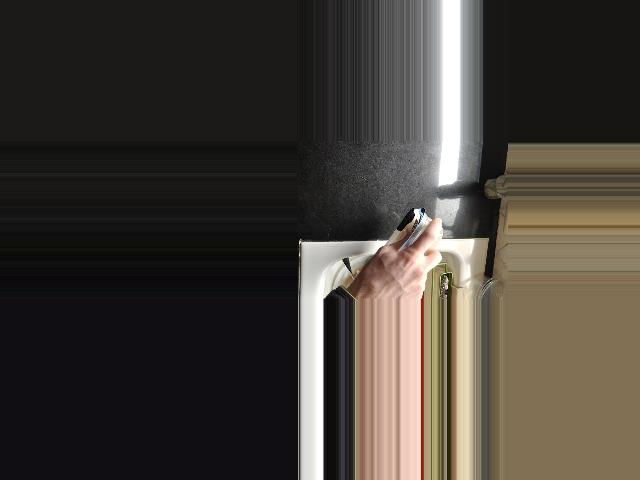cheese: (372, 204, 438, 294)
